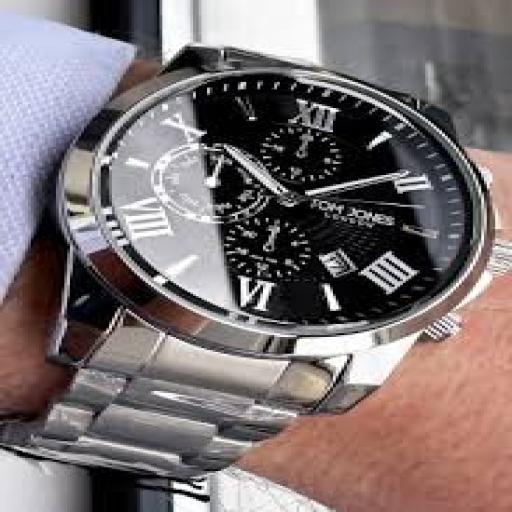KolSaati: (13, 14, 509, 496)
